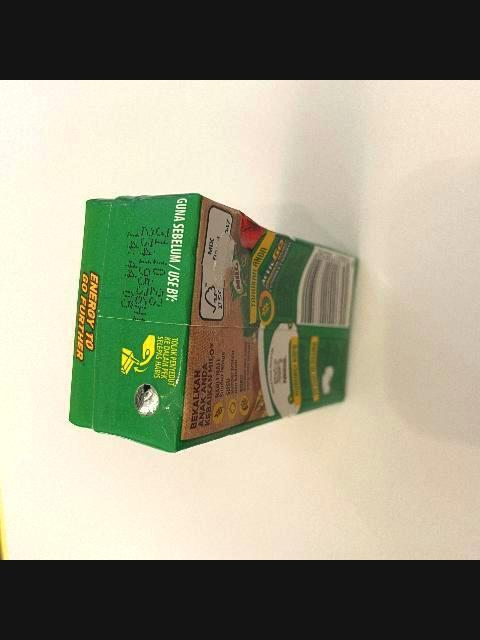drinkpack: (63, 192, 361, 456)
